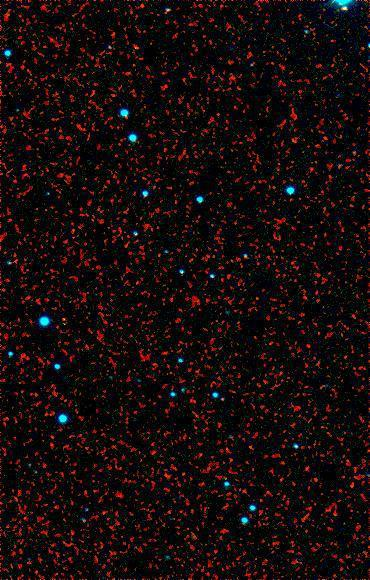star: (121, 30, 151, 60)
